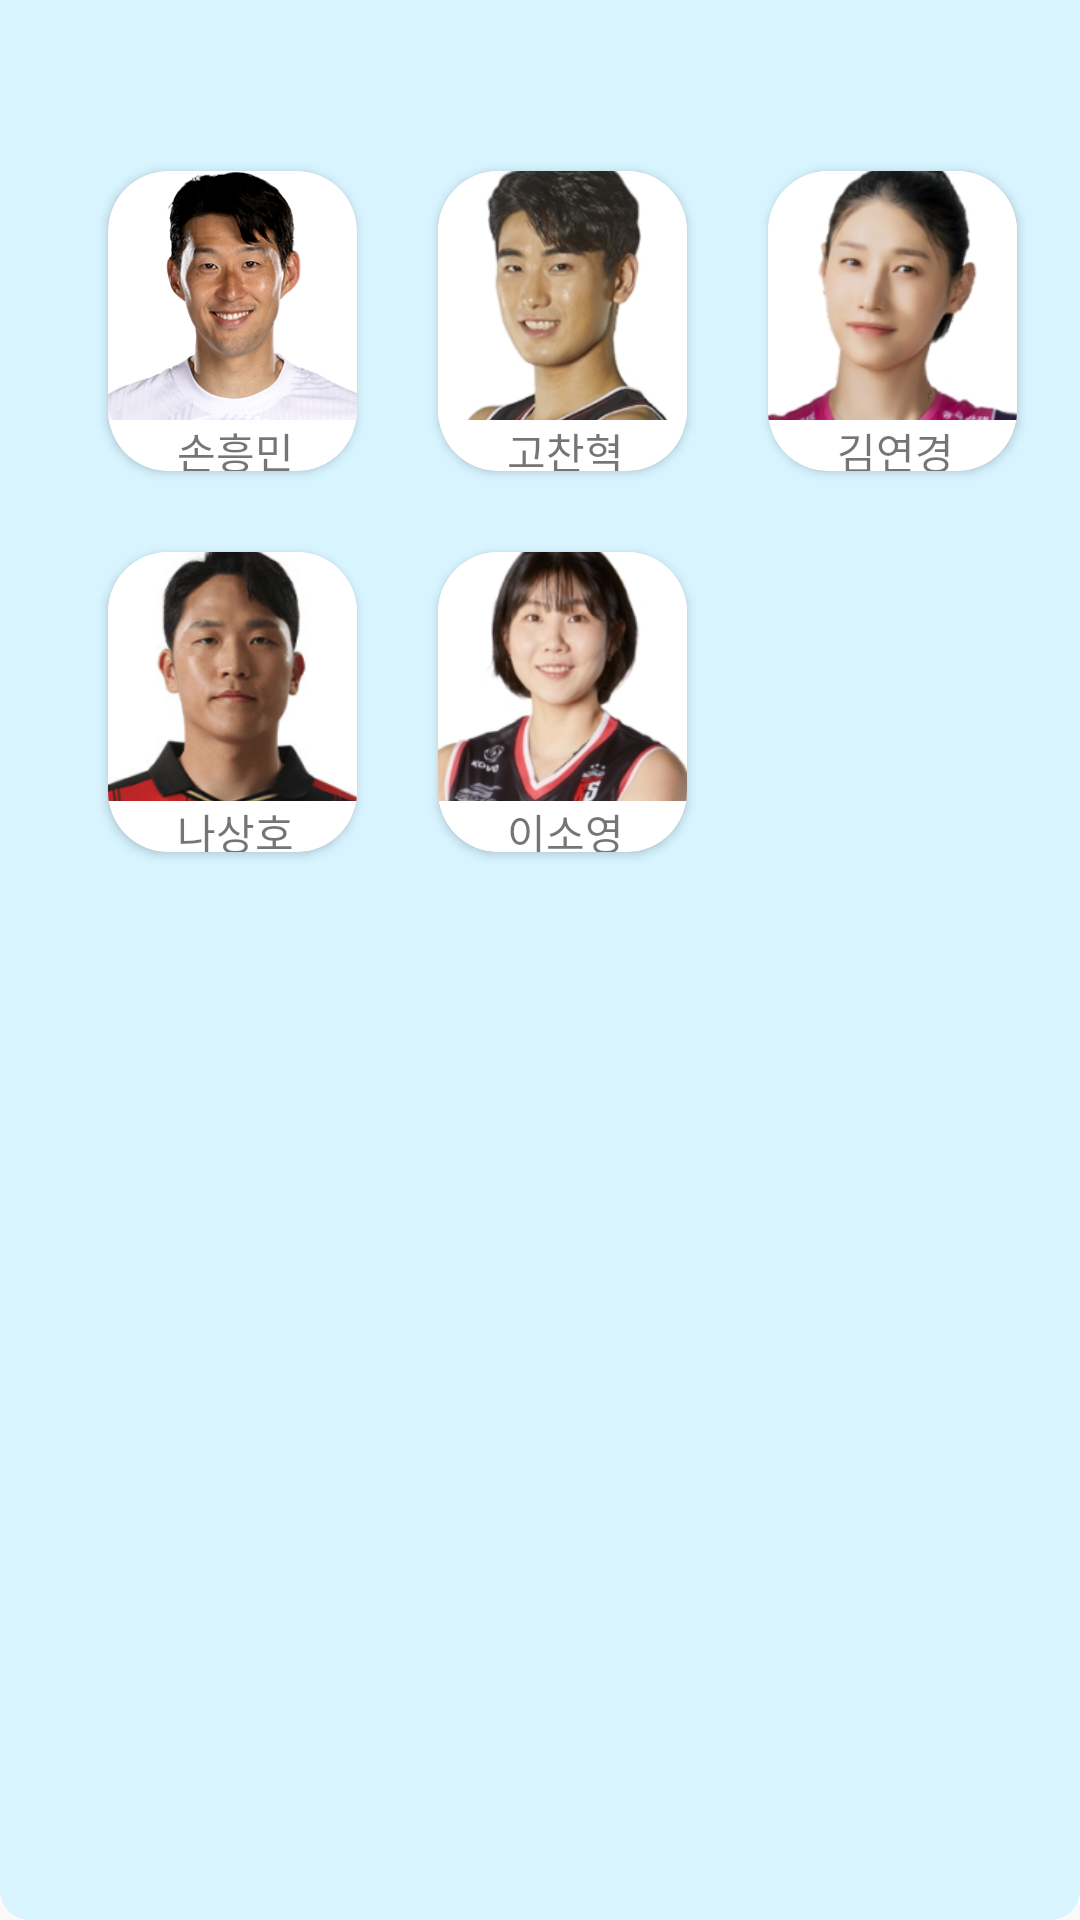

Icons on this 1080*1920 Android screen, each with its box as bbox=[x1, y1, x2, y2]:
pic fav player: bbox=[108, 171, 357, 420], bbox=[438, 171, 687, 420], bbox=[768, 171, 1017, 420], bbox=[108, 552, 357, 801], bbox=[438, 552, 687, 801]
